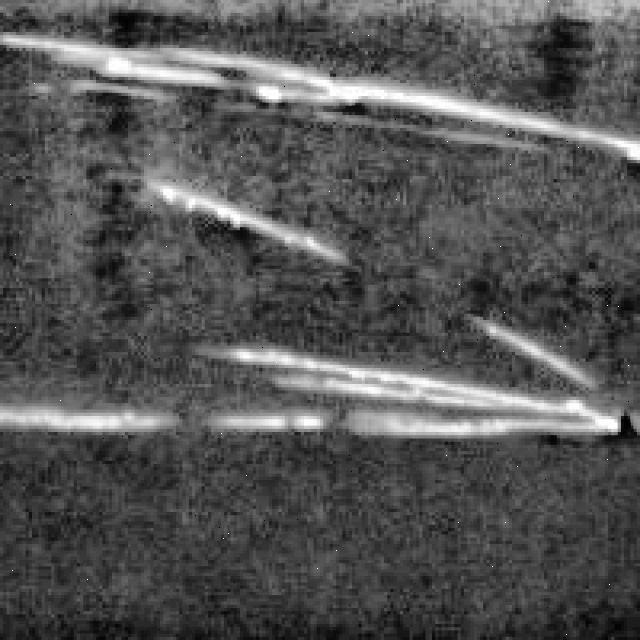Inclusion: (0, 28, 634, 154), (198, 310, 628, 432), (141, 172, 342, 266), (0, 384, 186, 438)
